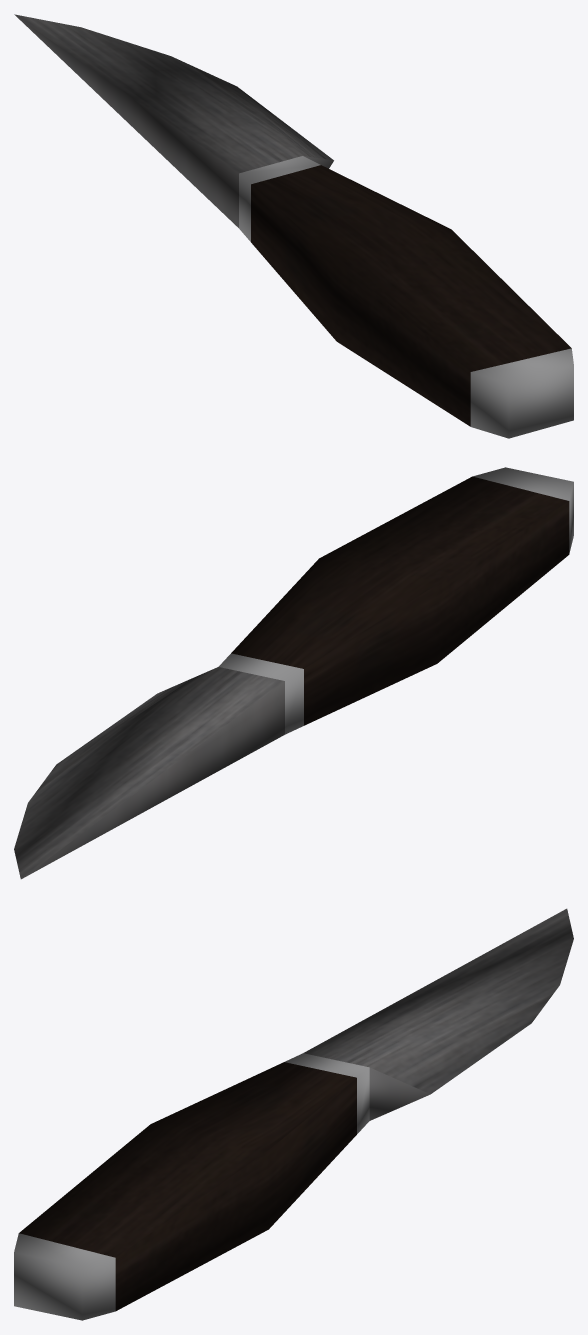
The model's file is Knife_Pairing.fbx.
3 views of the same model, one above another, from view 1: azimuth 30°, elevation 25°; view 2: azimuth 150°, elevation 25°; view 3: azimuth 330°, elevation 25° (orthographic). The views are drawn at different scales.
Visible parts, largest first — view 1: Plane.003; view 2: Plane.003; view 3: Plane.003.
Part boxes in pixels (bbox=[...]): Plane.003: bbox=[14, 14, 573, 438]; Plane.003: bbox=[14, 467, 573, 879]; Plane.003: bbox=[14, 908, 573, 1320].
Bounding box in the file's own units: 10.89 × 5.81 × 68.74.
